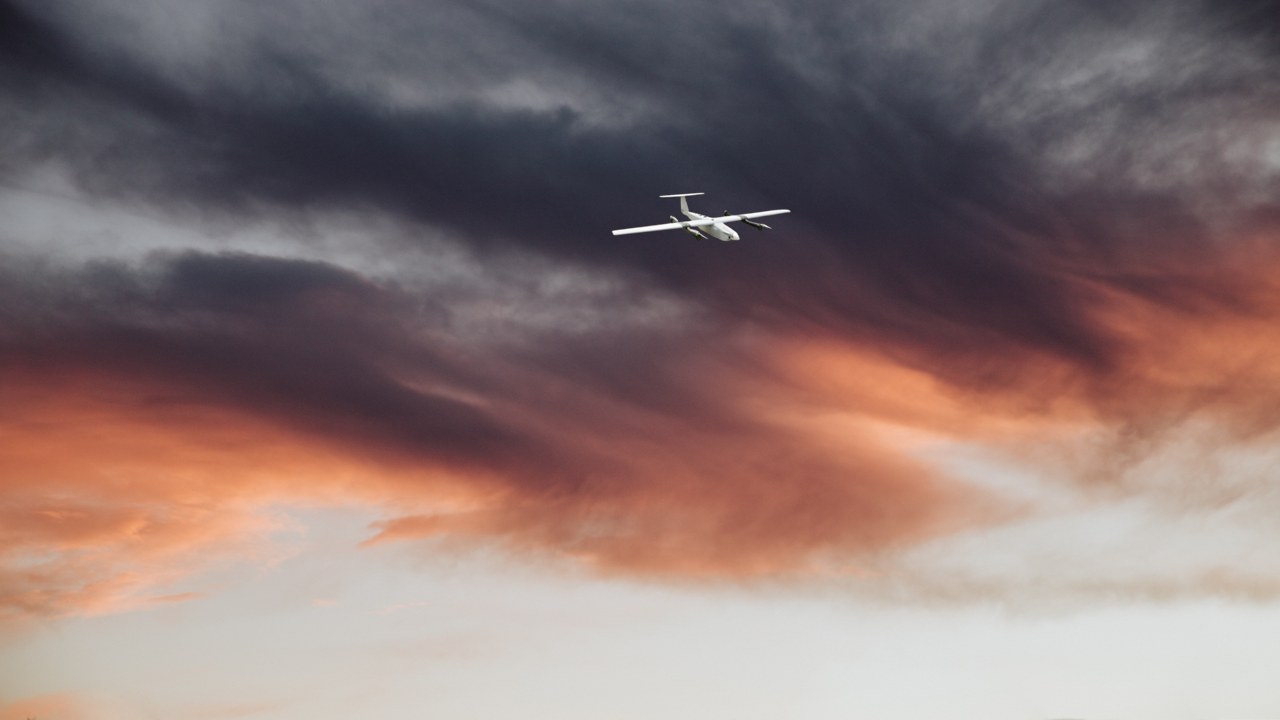military drone: (611, 192, 790, 241)
